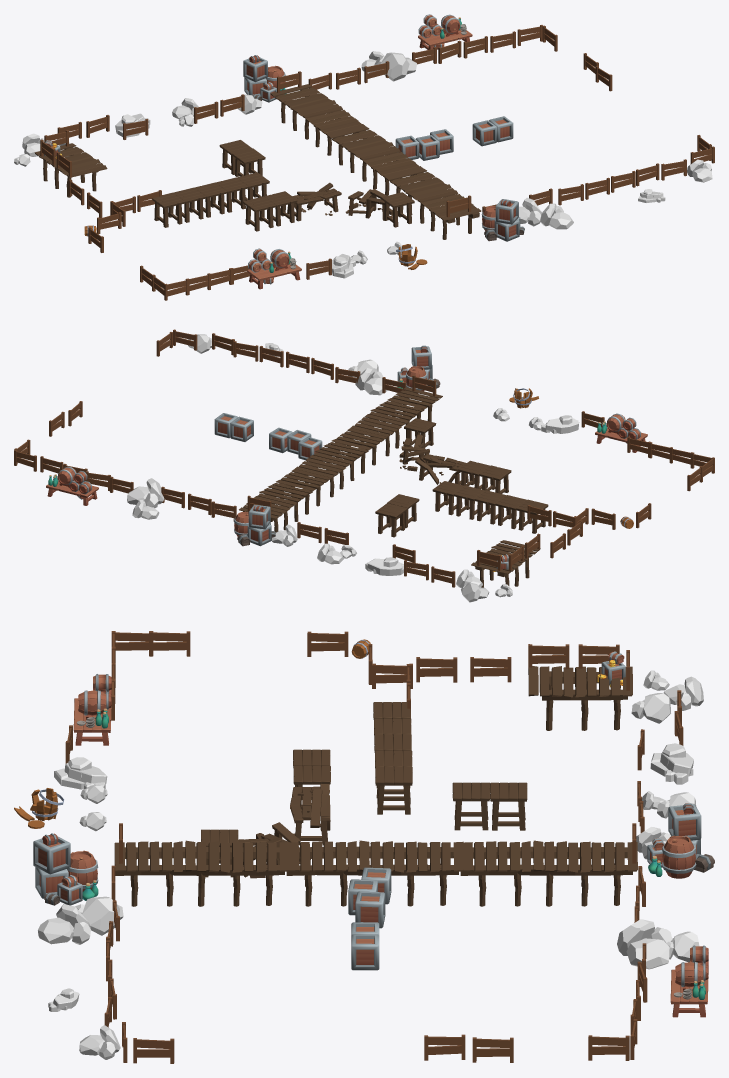
Rendered from level3Item.fbx.
3 views of the same model, one above another, from view 1: azimuth 30°, elevation 25°; view 2: azimuth 150°, elevation 25°; view 3: azimuth 270°, elevation 25° (orthographic). The views are drawn at different scales.
Visible parts, largest first — view 1: Plane.001, Plane.002, Plane.014, box_stacked.003, table_long_decorated_C.003, box_stacked.001, table_long_decorated_C.001, Plane.003, table_long_broken.002, table_medium.010, table_medium.008, Rock Type2 02 mesh.016 (+13 smaller); view 2: Plane.001, Plane.014, Plane.002, box_stacked.001, table_long_decorated_C.001, table_long_decorated_C.003, box_stacked.003, table_long_broken.002, Plane.003, Rock Type2 02 mesh.016, table_medium.007, table_medium.008 (+13 smaller); view 3: Plane.002, Plane.014, Plane.001, box_stacked.003, box_stacked.001, Plane.003, table_long_decorated_C.003, table_long_decorated_C.001, Rock Type2 02 mesh.016, table_long_broken.002, Rock Type2 02 mesh.012, table_medium.005 (+28 smaller).
Boxes of the visible parts, x1=… form: Plane.001: x1=328, y1=126, x2=422, y2=180; Plane.002: x1=270, y1=84, x2=365, y2=135; Plane.014: x1=385, y1=168, x2=481, y2=223; box_stacked.003: x1=481, y1=199, x2=524, y2=241; table_long_decorated_C.003: x1=247, y1=248, x2=301, y2=289; box_stacked.001: x1=243, y1=55, x2=286, y2=102; table_long_decorated_C.001: x1=418, y1=14, x2=472, y2=49; Plane.003: x1=34, y1=143, x2=107, y2=177; table_long_broken.002: x1=287, y1=182, x2=341, y2=221; table_medium.010: x1=381, y1=192, x2=414, y2=227; table_medium.008: x1=243, y1=196, x2=276, y2=231; Rock Type2 02 mesh.016: x1=374, y1=52, x2=416, y2=81; Plane.001: x1=295, y1=428, x2=387, y2=480; Plane.014: x1=350, y1=387, x2=442, y2=439; Plane.002: x1=239, y1=469, x2=331, y2=521; box_stacked.001: x1=234, y1=504, x2=275, y2=546; table_long_decorated_C.001: x1=46, y1=466, x2=98, y2=505; table_long_decorated_C.003: x1=595, y1=413, x2=647, y2=452; box_stacked.003: x1=397, y1=345, x2=440, y2=393; table_long_broken.002: x1=415, y1=454, x2=468, y2=484; Plane.003: x1=471, y1=540, x2=540, y2=576; Rock Type2 02 mesh.016: x1=127, y1=478, x2=164, y2=507; table_medium.007: x1=375, y1=503, x2=407, y2=537; table_medium.008: x1=479, y1=465, x2=511, y2=493; Plane.002: x1=460, y1=840, x2=637, y2=875; Plane.014: x1=114, y1=840, x2=289, y2=875; Plane.001: x1=286, y1=840, x2=463, y2=875; box_stacked.003: x1=33, y1=833, x2=98, y2=905; box_stacked.001: x1=647, y1=803, x2=714, y2=878; Plane.003: x1=528, y1=666, x2=632, y2=700; table_long_decorated_C.003: x1=73, y1=674, x2=111, y2=745; table_long_decorated_C.001: x1=670, y1=945, x2=708, y2=1017; Rock Type2 02 mesh.016: x1=617, y1=919, x2=672, y2=969; table_long_broken.002: x1=290, y1=784, x2=330, y2=845; Rock Type2 02 mesh.012: x1=38, y1=904, x2=90, y2=944; table_medium.005: x1=375, y1=766, x2=412, y2=814.
Bounding box in the file's own units: 5195 × 455 × 3760.
Materials: 8 (1 with a texture image).
